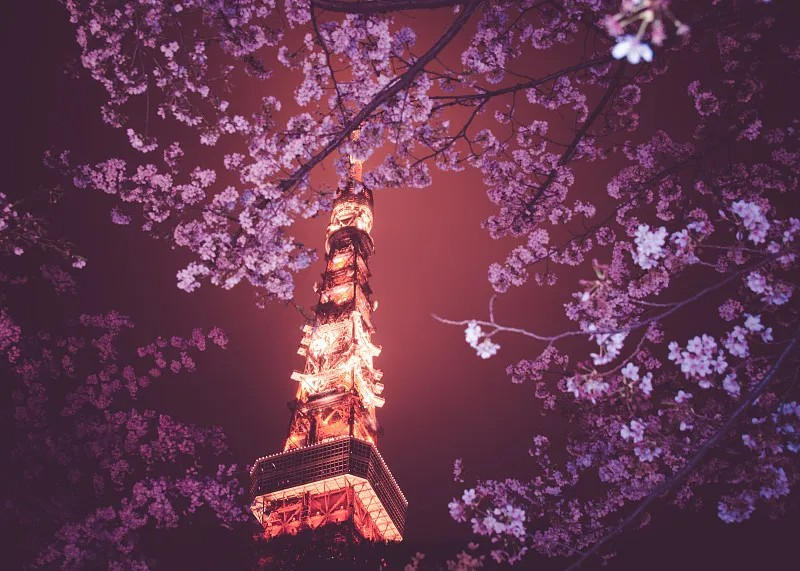Tokyo: (248, 106, 411, 570)
